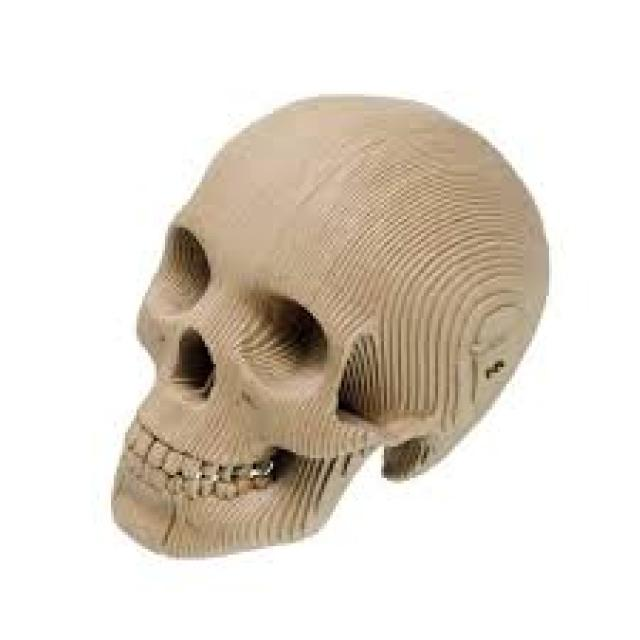skull: (103, 81, 557, 569)
